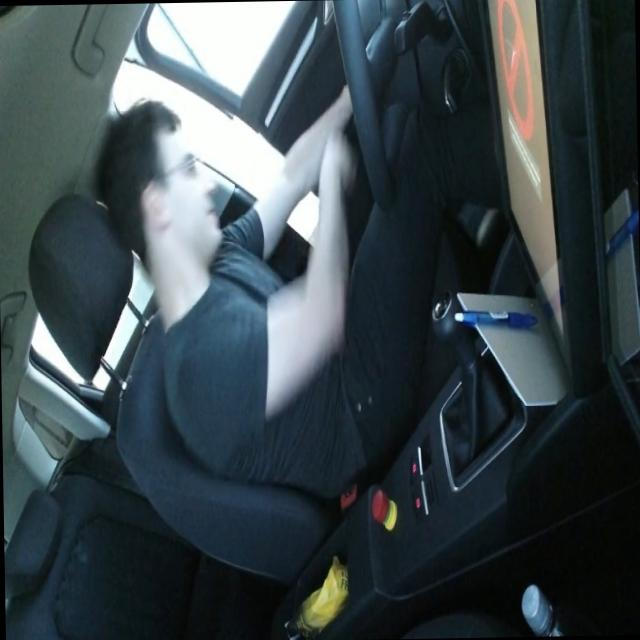pen: (453, 306, 537, 329)
